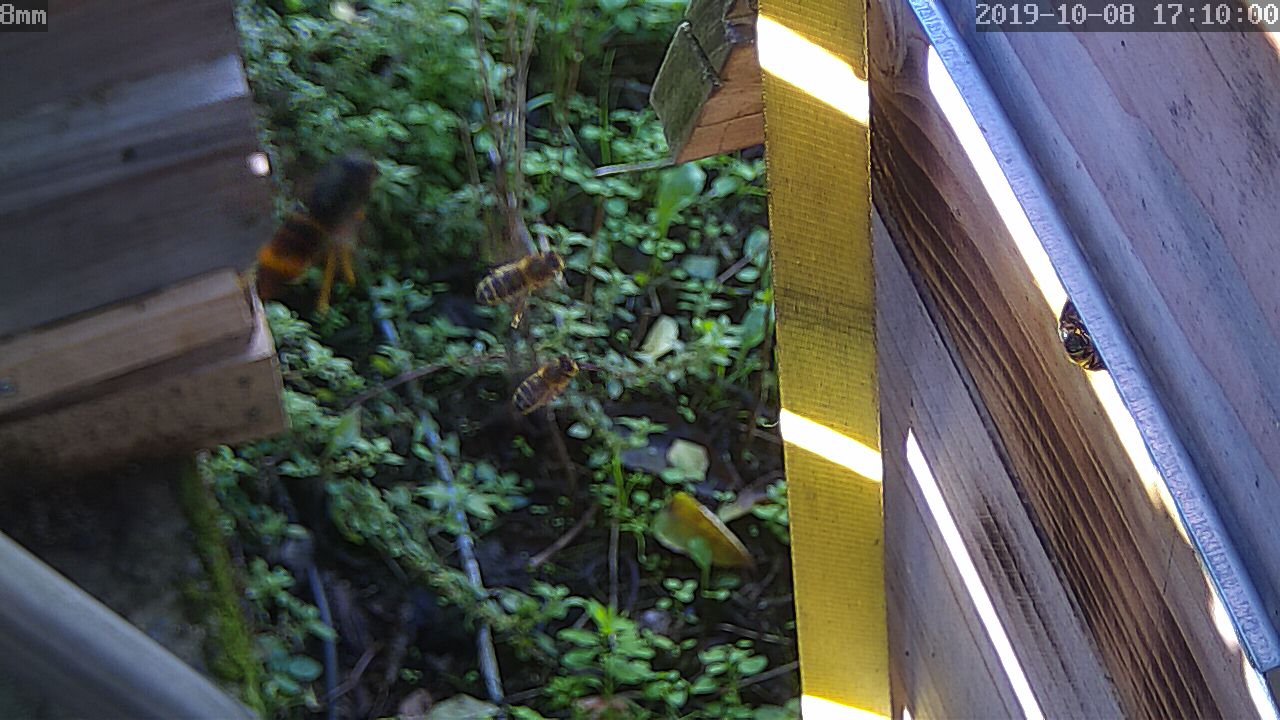bee: (476, 234, 572, 324), (1042, 285, 1123, 389), (503, 344, 598, 423)
hornet: (241, 145, 390, 314)
